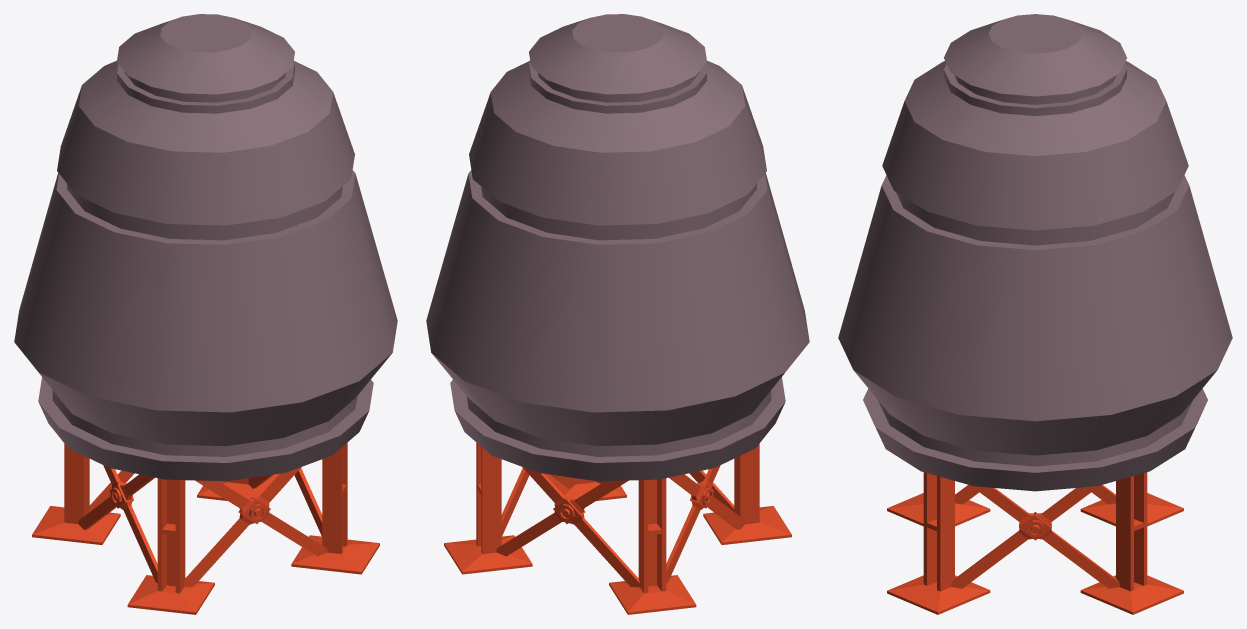
The model's file is Silo-M00A 1.fbx.
3 views of the same model, side by side, from view 1: azimuth 30°, elevation 25°; view 2: azimuth 150°, elevation 25°; view 3: azimuth 270°, elevation 25° (orthographic). The views are drawn at different scales.
Parts seen in each view (by area): view 1: Silo-M00A; view 2: Silo-M00A; view 3: Silo-M00A.
Boxes of the visible parts, bbox=[...] form: Silo-M00A: bbox=[14, 14, 397, 614]; Silo-M00A: bbox=[426, 14, 809, 614]; Silo-M00A: bbox=[838, 14, 1232, 614].
Size of the model in its own units: 299 by 434 by 299.
